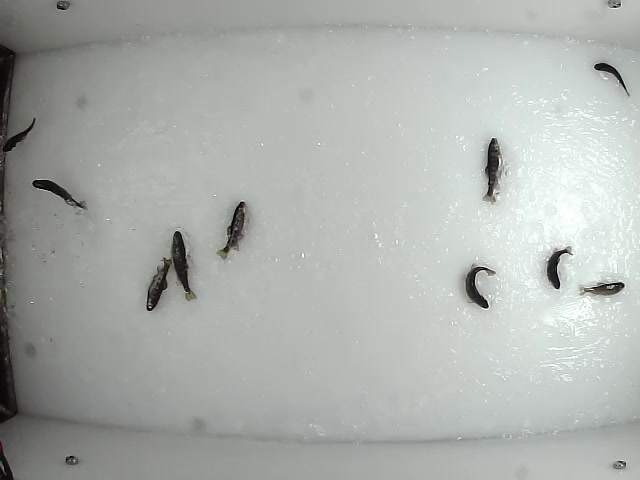fish: (216, 199, 249, 264), (30, 177, 89, 212), (144, 254, 177, 313), (172, 231, 199, 302), (480, 137, 504, 209), (462, 262, 498, 309), (1, 112, 38, 153), (544, 243, 575, 290), (592, 61, 630, 98), (575, 280, 625, 296)
